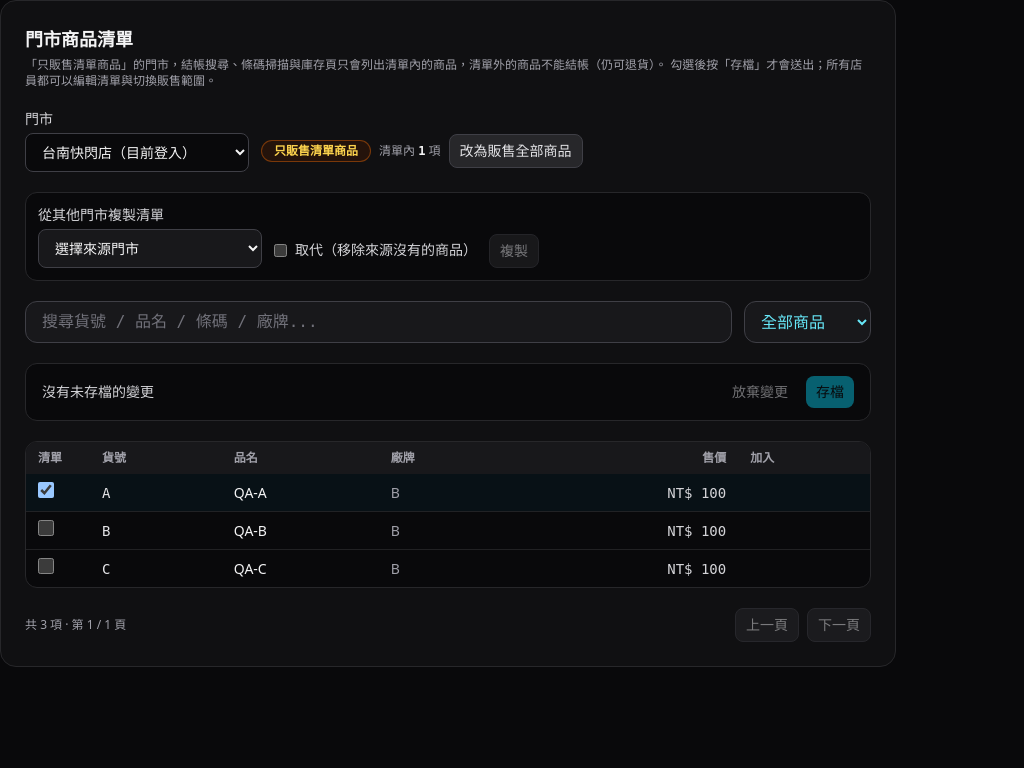
Test case: StoreProductListPanel › keeps the ticks when saving fails
This screenshot has width=1024, height=768.
Check: the text "QA-B" is shown, box x1=222 y1=512 x2=379 y2=550
Click the checkbox named "B 加入清單" at (46, 528), box x1=38 y1=520 x2=54 y2=536
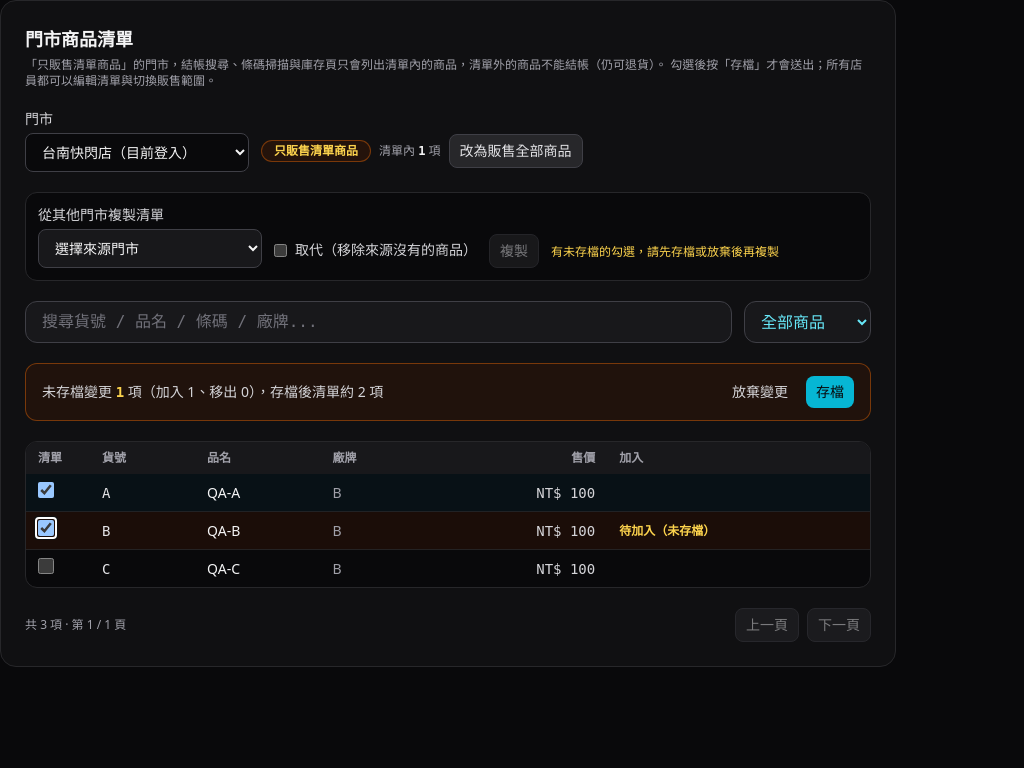
Click the button "存檔" at (830, 392), box x1=806 y1=376 x2=854 y2=408
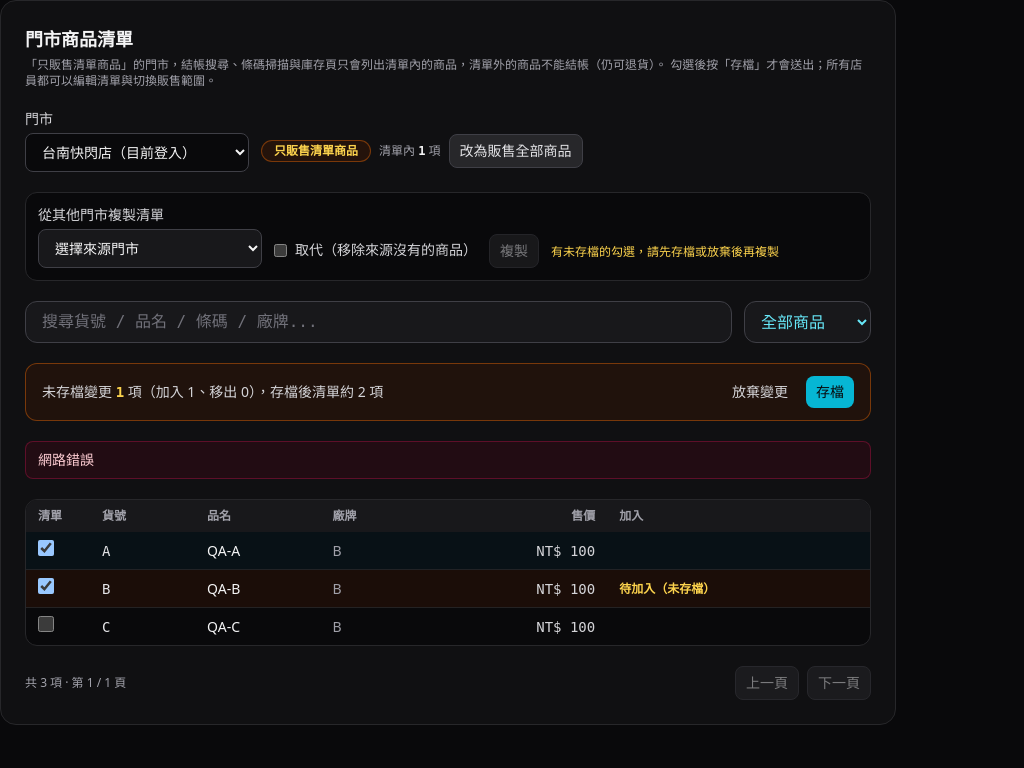
Check: the checkbox named "B 移出清單" is checked, box x1=38 y1=578 x2=54 y2=594
Check: the element with test id "store-product-save-bar" shows "未存檔變更 1 項", box x1=25 y1=363 x2=871 y2=421
Check: the message "網路錯誤" is shown, box x1=25 y1=441 x2=871 y2=479
